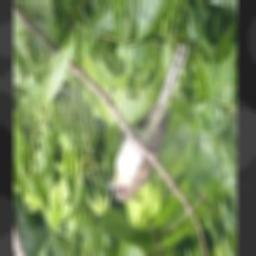Cuckoo: (108, 42, 190, 202)
